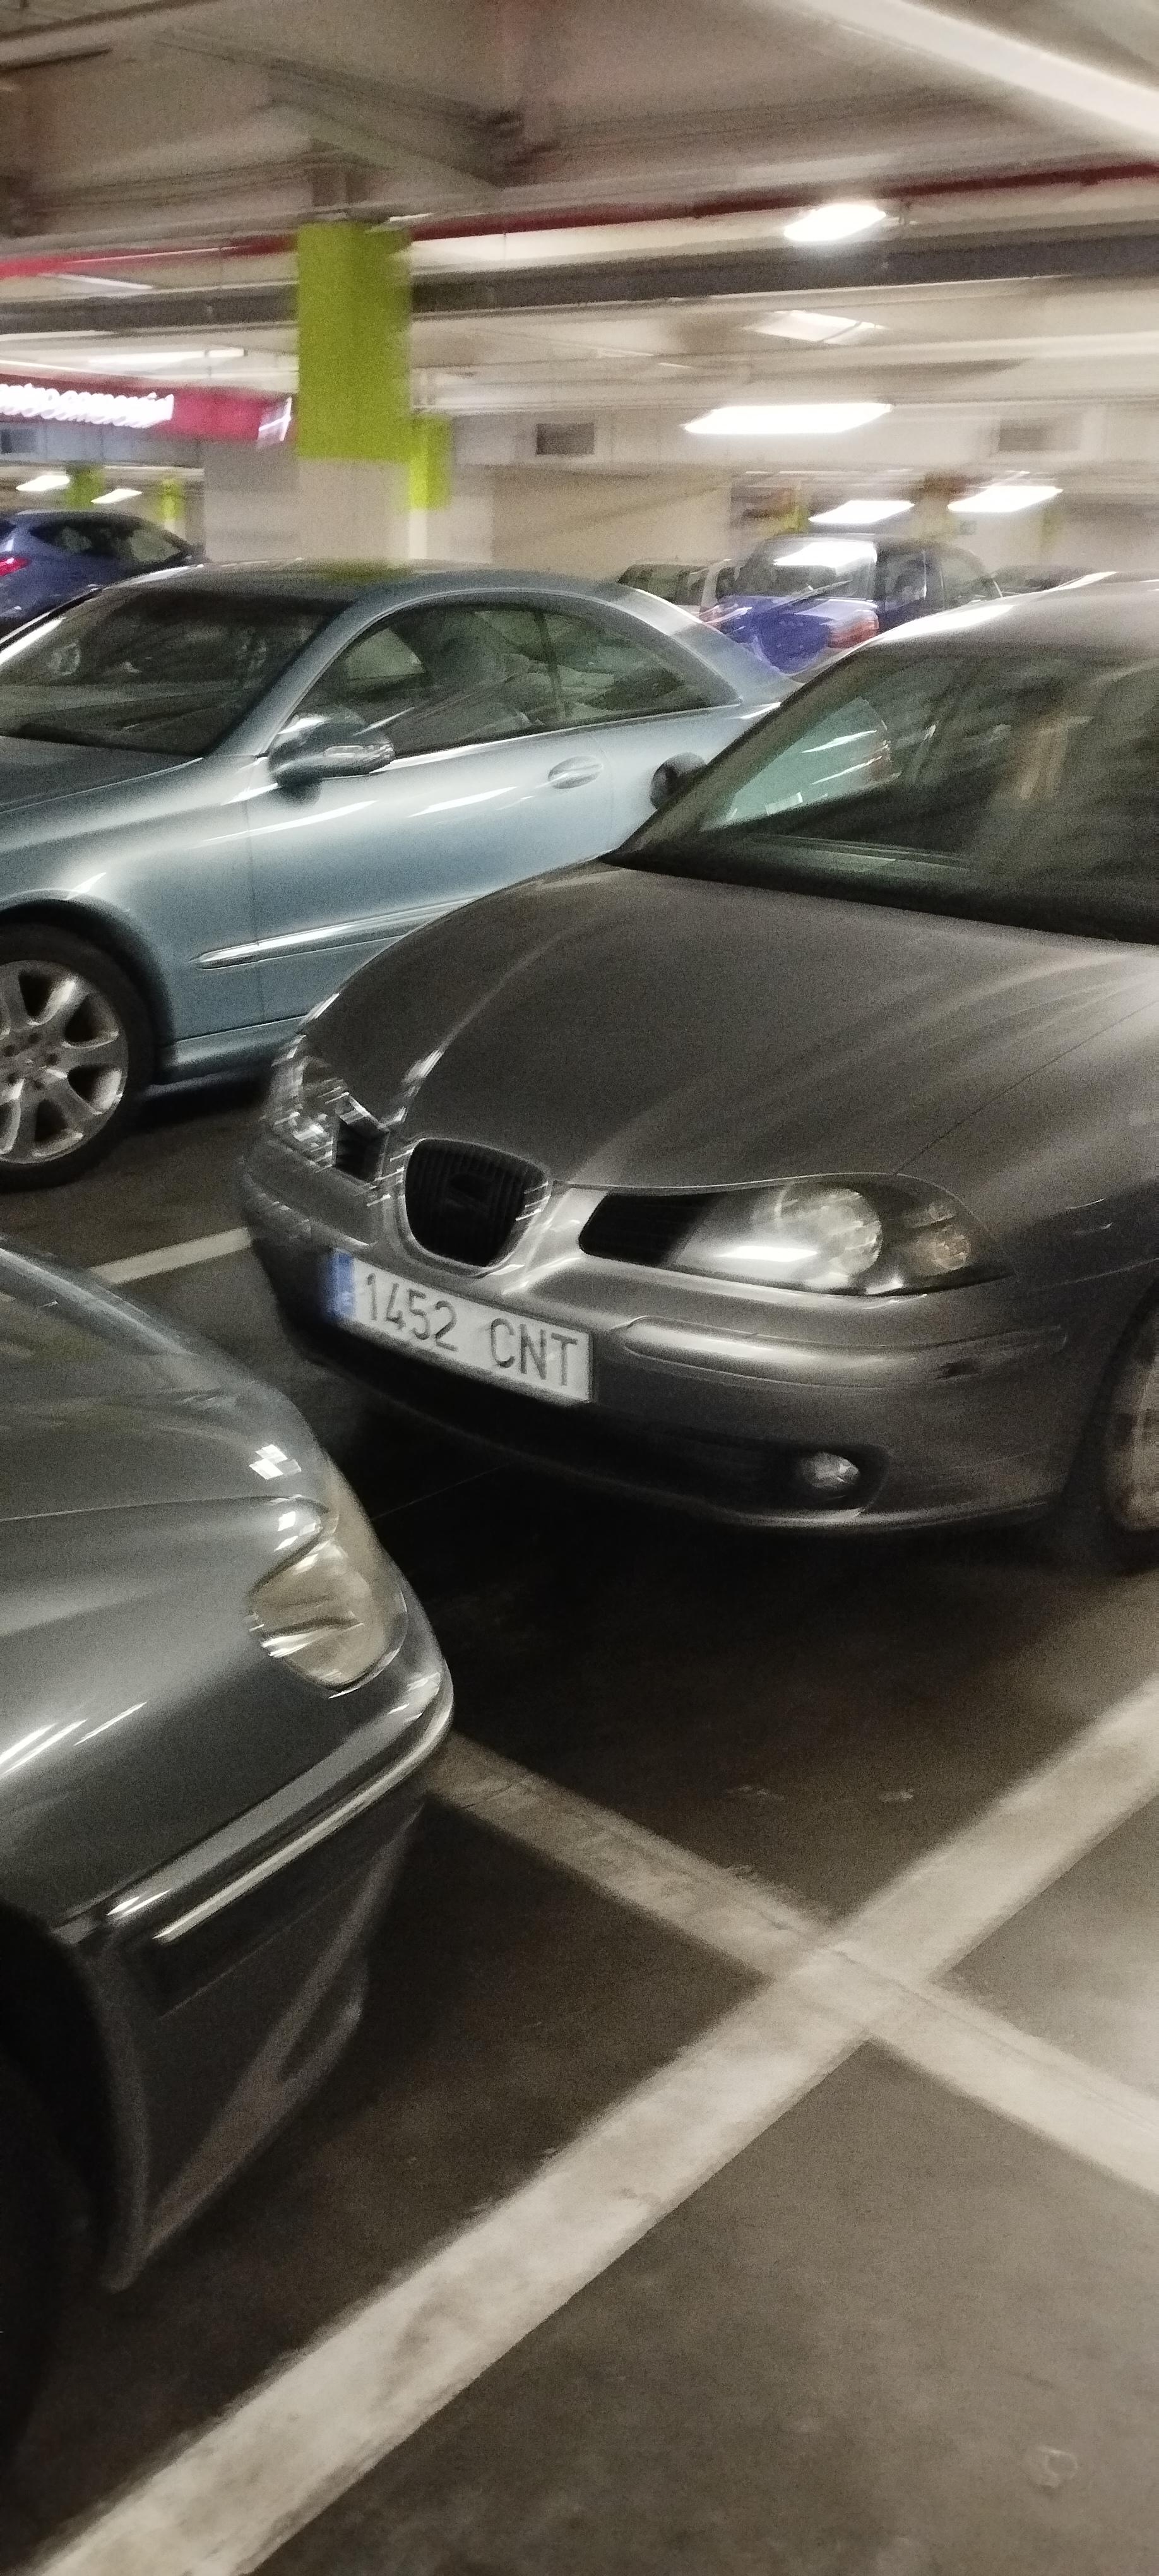Car: (297, 541, 1158, 1566)
Plate: (336, 1244, 627, 1324)
